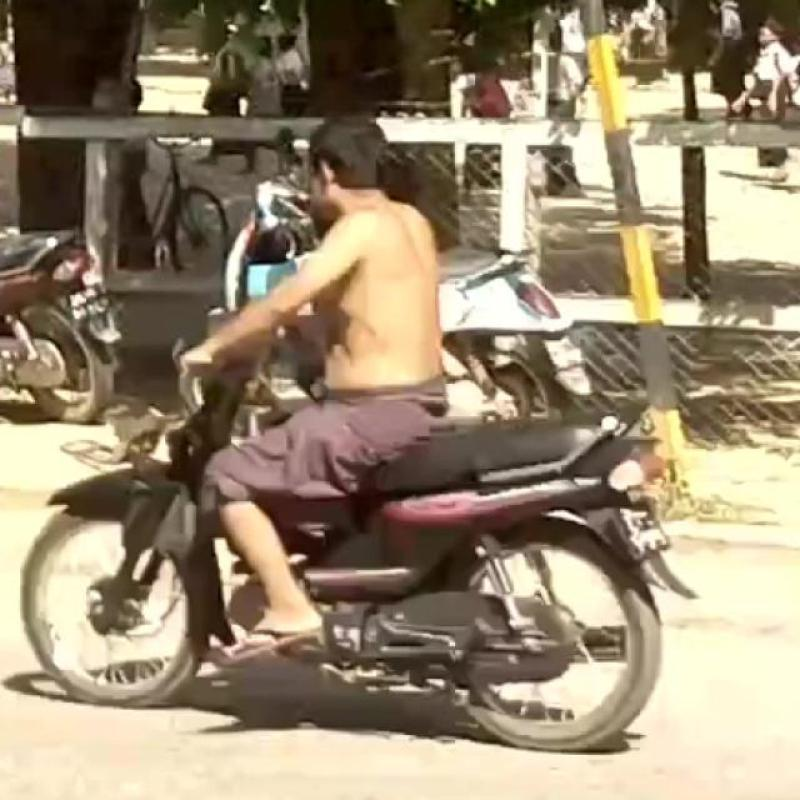nohelmet: (268, 81, 420, 219)
